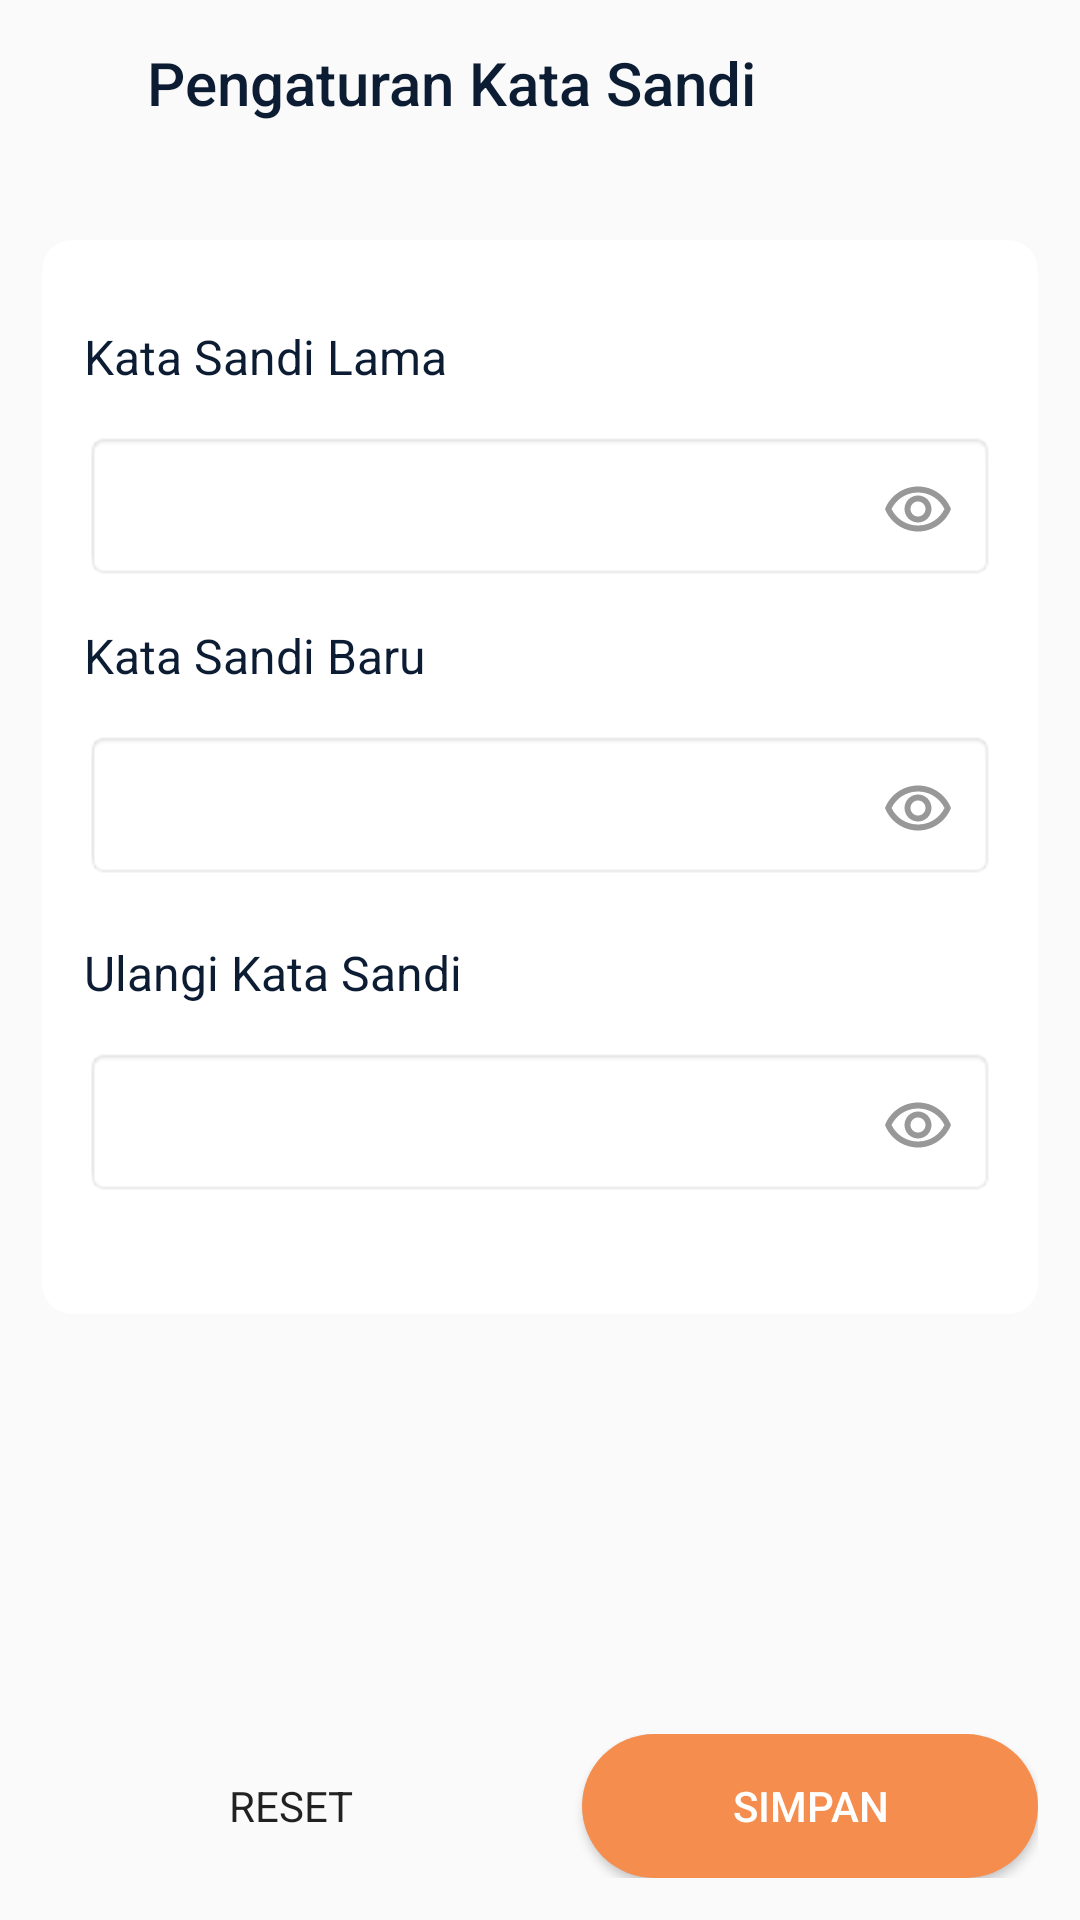

Point at icon controls on the screen. Image size 1080×1920, points as (x=x, y=y).
remove eye: (x=918, y=509), (x=918, y=808), (x=918, y=1125)
